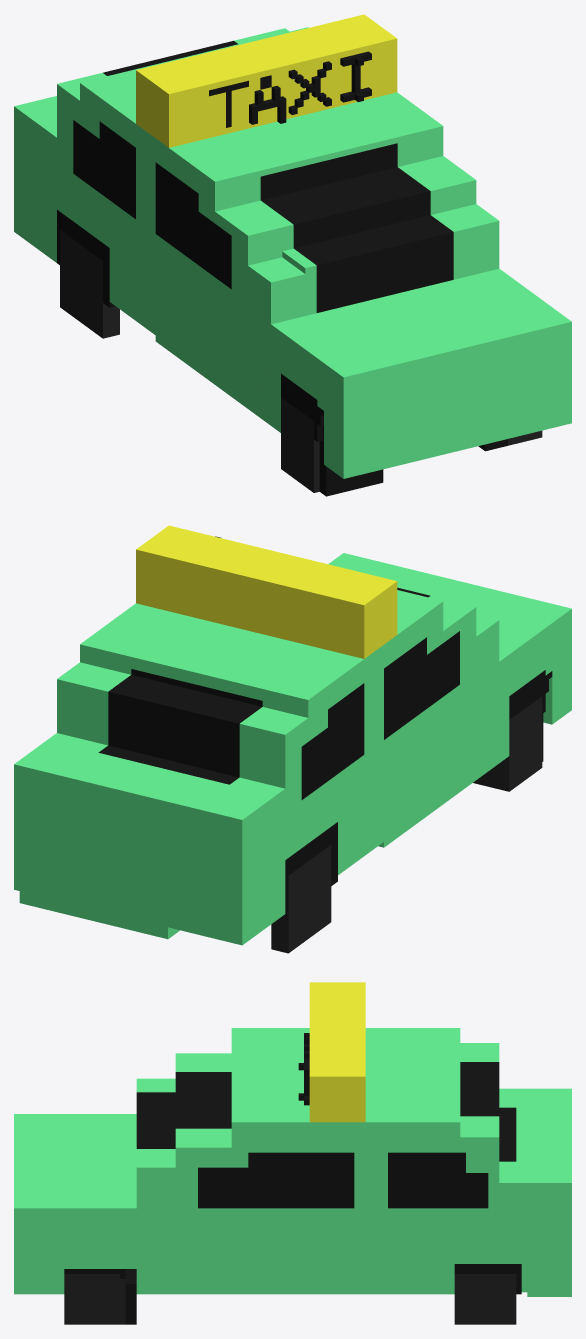
Rendered from cub.obj.
The picture shows the model from 3 angles, top to bottom: view 1: azimuth 30°, elevation 25°; view 2: azimuth 150°, elevation 25°; view 3: azimuth 270°, elevation 25°; orthographic projection. The views are drawn at different scales.
Bounding box in the file's own units: 4 × 4.9 × 10.
